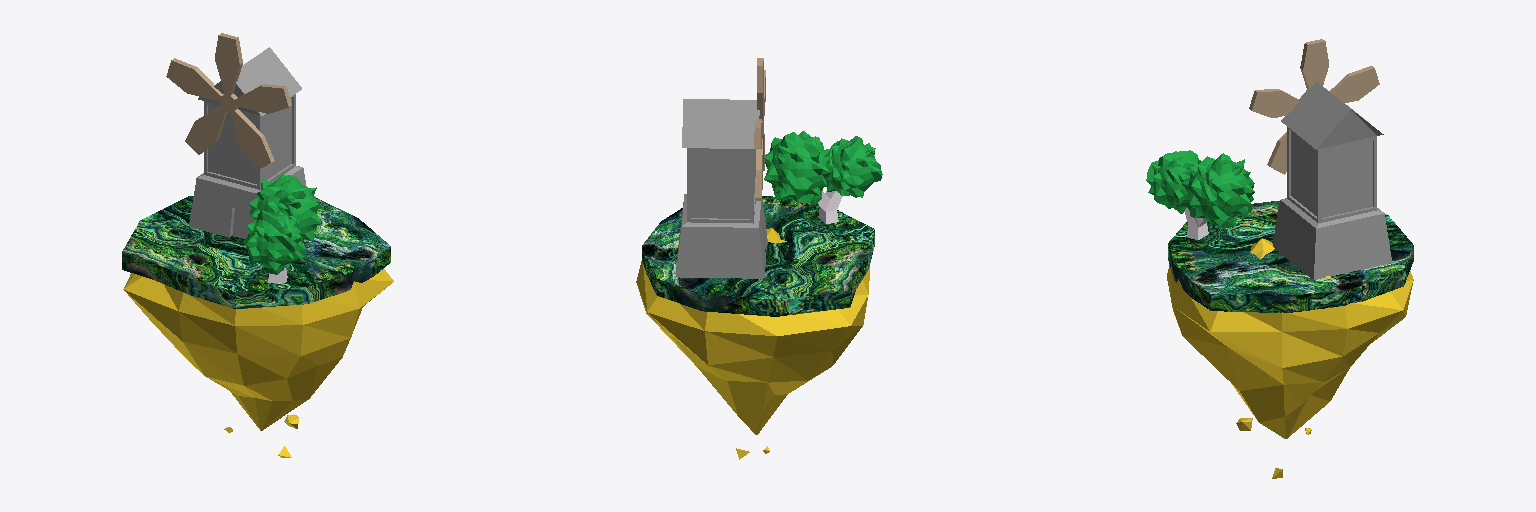
3 renders of one model, left to right at view 1: azimuth 30°, elevation 25°; view 2: azimuth 150°, elevation 25°; view 3: azimuth 270°, elevation 25°, orthographic.
Visible parts, largest first — view 1: Island_Untitled.003, Green_platform_Untitled.004, Mill_Untitled.001, propeller_Untitled, Tree_Untitled.002; view 2: Island_Untitled.003, Green_platform_Untitled.004, Mill_Untitled.001, Tree_Untitled.002, propeller_Untitled; view 3: Island_Untitled.003, Mill_Untitled.001, Green_platform_Untitled.004, Tree_Untitled.002, propeller_Untitled.
Part boxes in pixels (x1,y1,x2,y2): Island_Untitled.003: (123,269,393,457); Green_platform_Untitled.004: (122,196,390,308); Mill_Untitled.001: (189,47,306,238); propeller_Untitled: (166,33,291,169); Tree_Untitled.002: (243,173,321,282); Island_Untitled.003: (636,228,869,459); Green_platform_Untitled.004: (642,196,874,316); Mill_Untitled.001: (676,99,767,278); Tree_Untitled.002: (764,131,882,223); propeller_Untitled: (754,58,765,200); Island_Untitled.003: (1167,238,1413,478); Mill_Untitled.001: (1273,81,1391,279); Green_platform_Untitled.004: (1168,201,1413,312); Tree_Untitled.002: (1146,150,1254,239); propeller_Untitled: (1249,39,1379,174).
Bounding box in the file's own units: 1.05 × 1.95 × 1.13.
Materials: 6 (4 with a texture image).